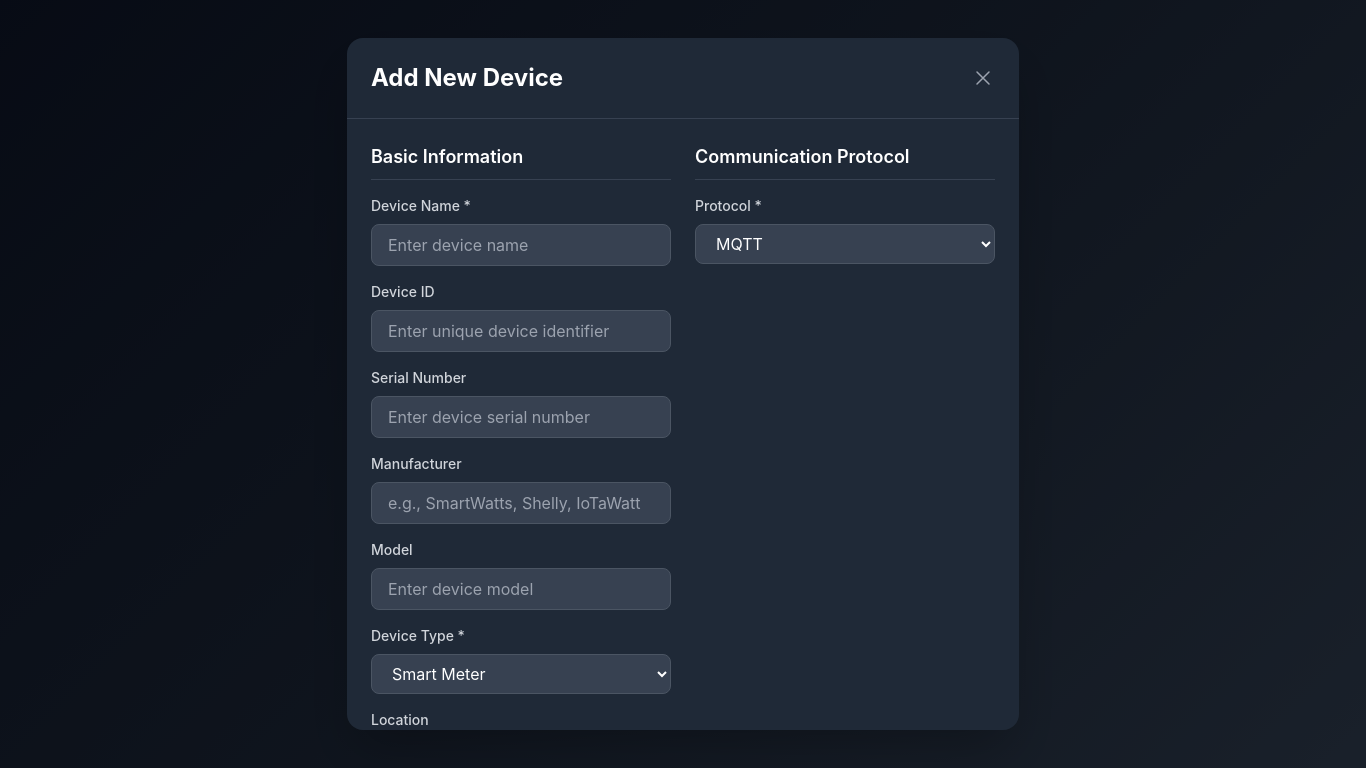
AddDeviceModal › Device Verification Logic › should show verification fields for non-OEM devices
The image size is (1366, 768).
Type "Other Manufacturer" into the field labelled "Manufacturer" at (521, 503), box [371,482,671,524]
(page scrolled)
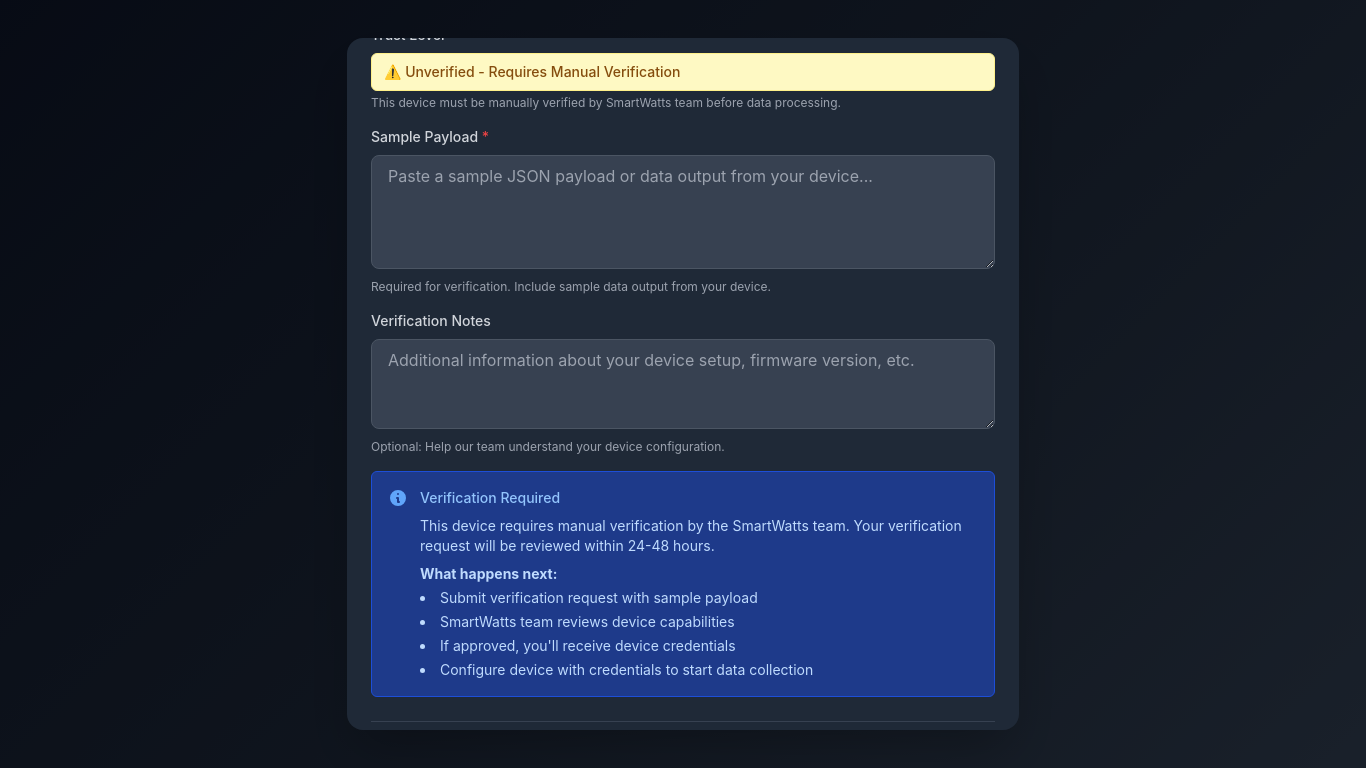
Check: the text box labelled "Sample Payload *" is shown, box [371,155,995,269]
Check: the text box labelled "Verification Notes" is shown, box [371,339,995,429]
